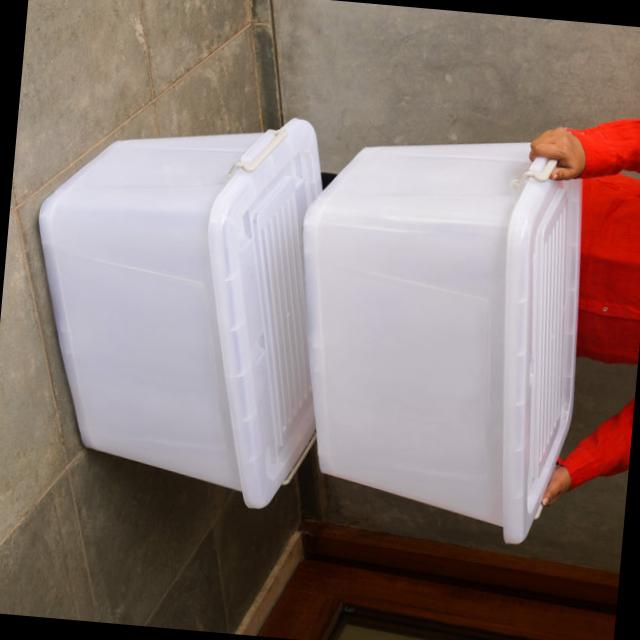plastic_box: (8, 83, 358, 547), (267, 122, 598, 577)
